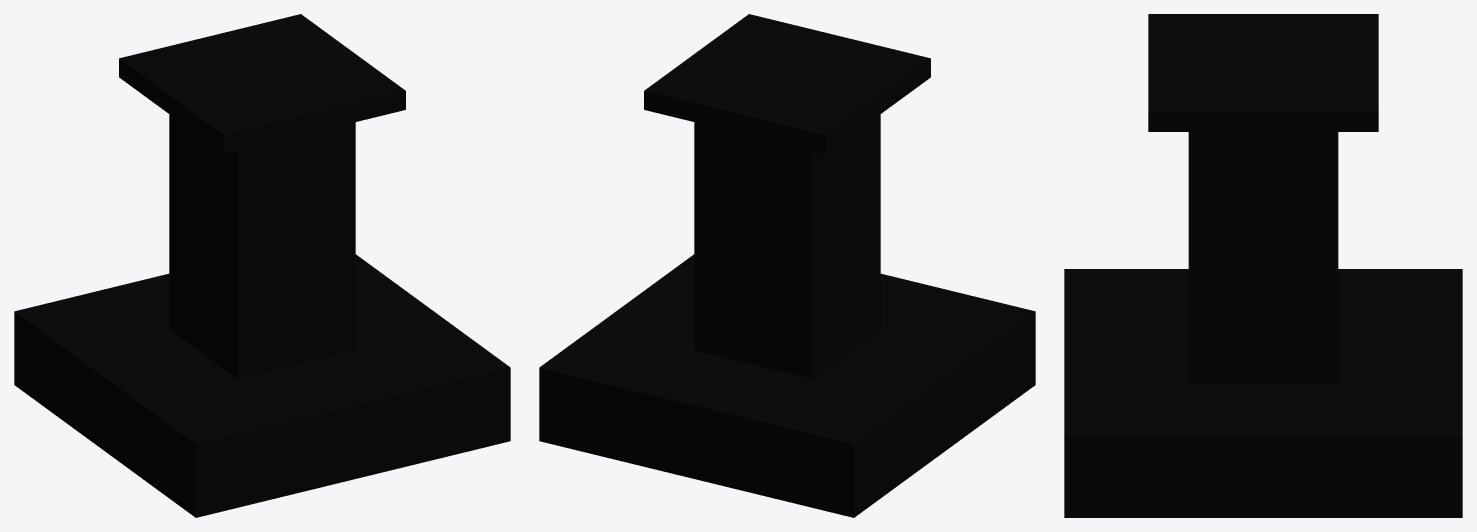
File: pedestal.fbx
3 renders of one model, left to right at view 1: azimuth 30°, elevation 25°; view 2: azimuth 150°, elevation 25°; view 3: azimuth 270°, elevation 25°, orthographic. The views are drawn at different scales.
Parts seen in each view (by area): view 1: Pedestal; view 2: Pedestal; view 3: Pedestal.
Part boxes in pixels (<box>): Pedestal: <box>14,14,510,517</box>; Pedestal: <box>539,14,1035,517</box>; Pedestal: <box>1064,14,1462,517</box>.
Bounding box in the file's own units: 1 × 1.03 × 1.
